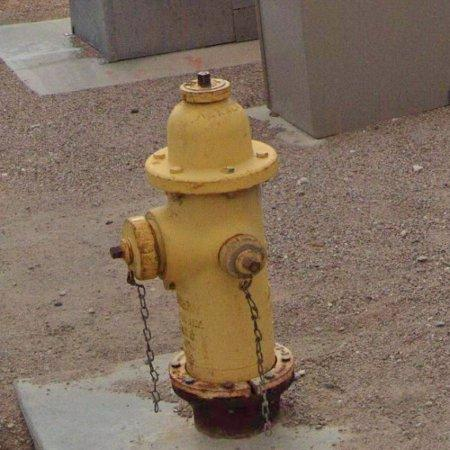a fire hydrant: (113, 72, 294, 436)
